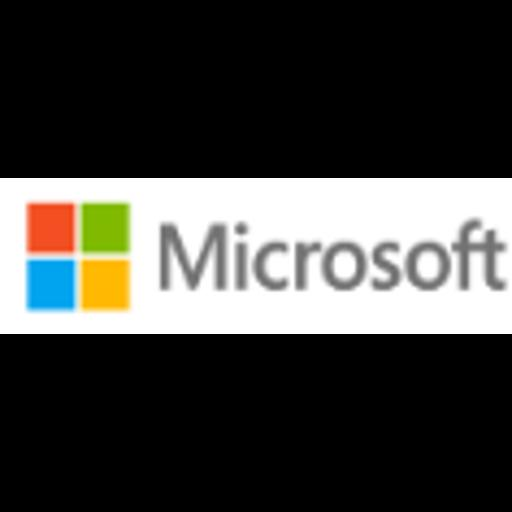Outlook: (0, 178, 512, 334)
